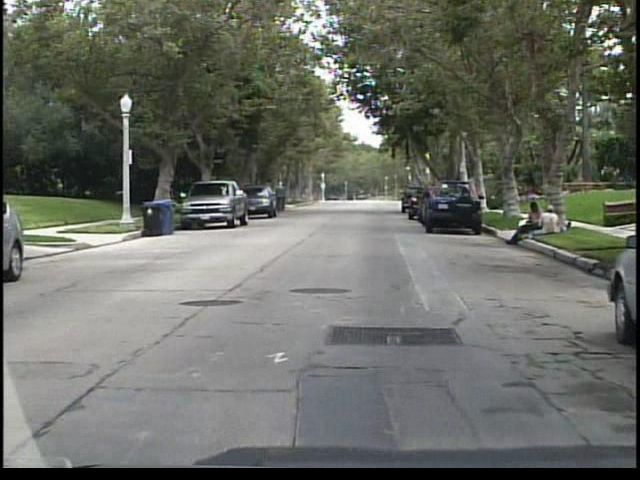person: (508, 199, 545, 246), (535, 205, 560, 233)
